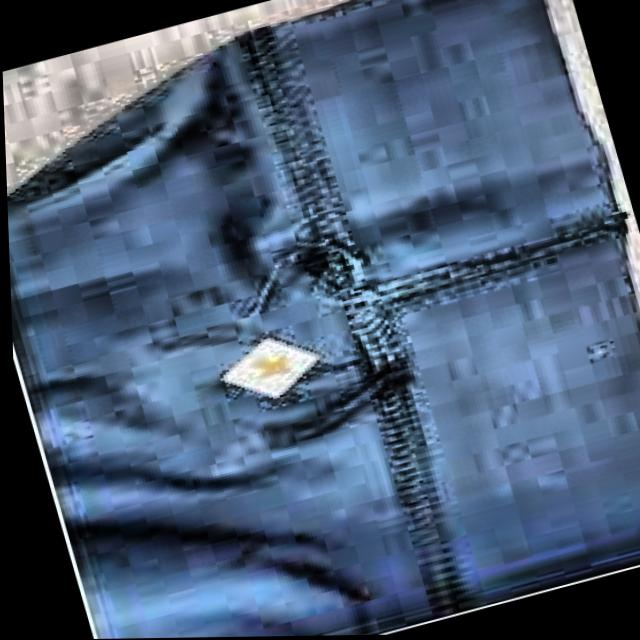Stitch: (198, 199, 422, 332), (256, 356, 451, 497)
